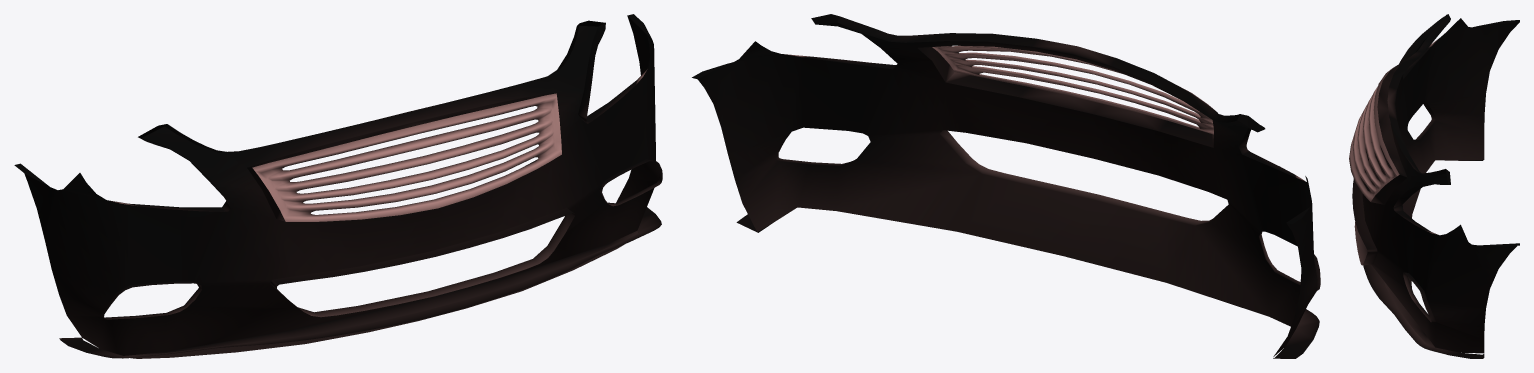
The model's file is G37_FB_01_Trim.fbx.
3 views of the same model, side by side, from view 1: azimuth 30°, elevation 25°; view 2: azimuth 150°, elevation 25°; view 3: azimuth 270°, elevation 25° (orthographic). The views are drawn at different scales.
Visible parts, largest first — view 1: G37_FB_01_Trim; view 2: G37_FB_01_Trim; view 3: G37_FB_01_Trim.
Part boxes in pixels (x1,y1,x2,y2): G37_FB_01_Trim: (14, 14, 662, 358); G37_FB_01_Trim: (692, 14, 1320, 358); G37_FB_01_Trim: (1349, 14, 1519, 358).
Size of the model in its own units: 180 by 61.27 by 57.73.
